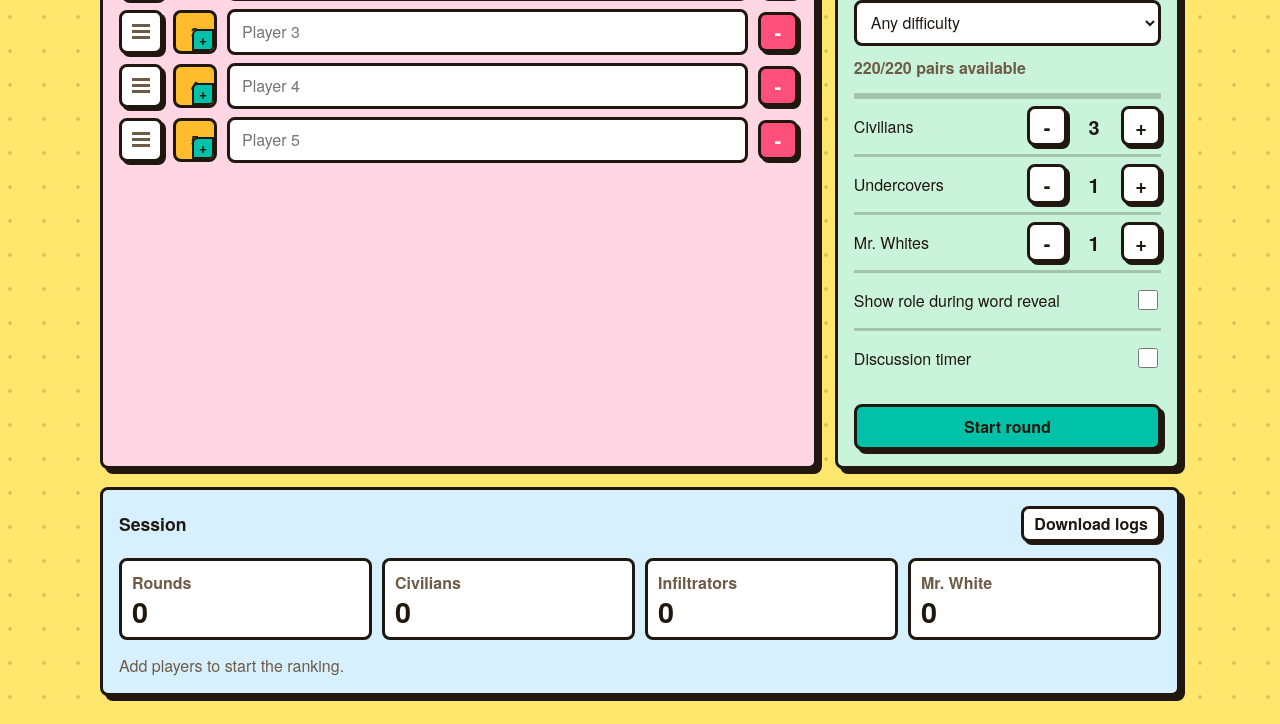
Test: App — setup / player management › refuses to start a round when a player name is blank
(page scrolled)
Click the button "Start round". click: (1007, 427)
box: [854,404,1161,450]
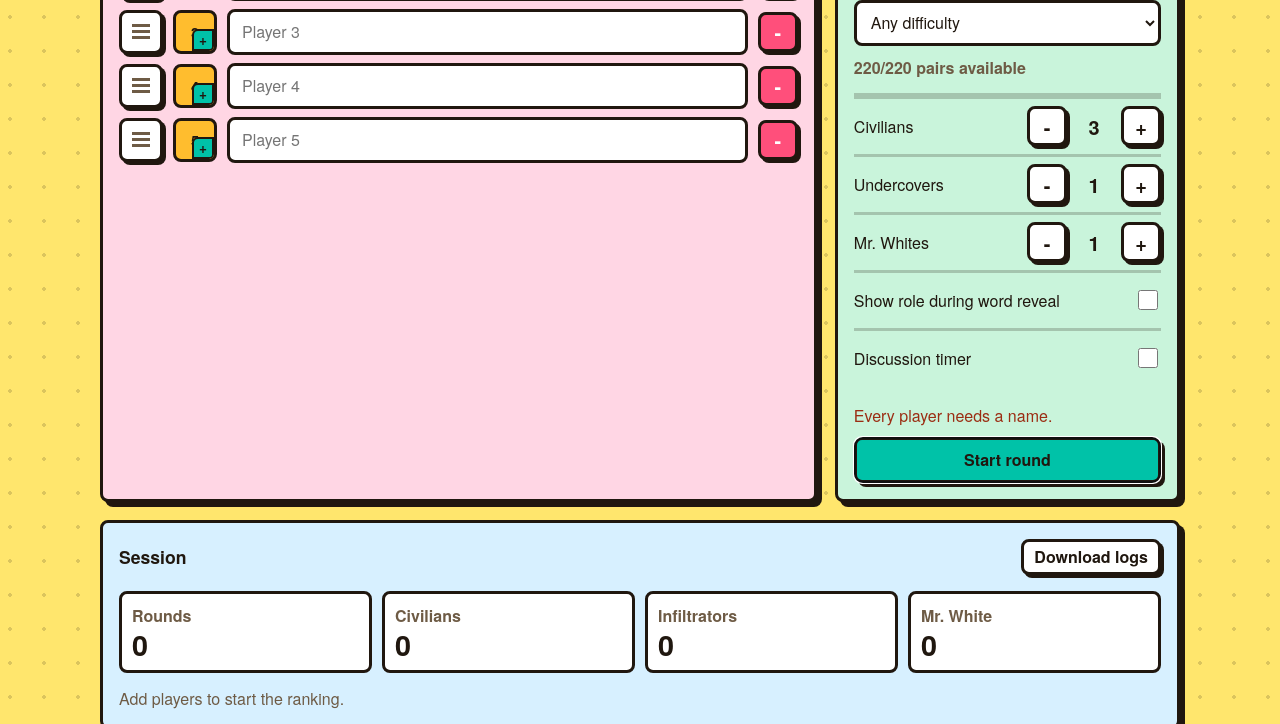
Expected: the text "Every player needs a name." is shown, [854,404,1052,427]
